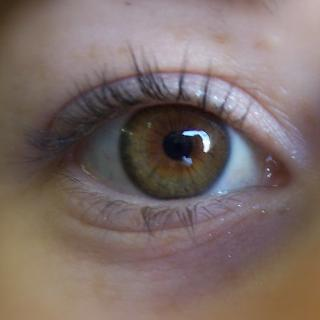pupil: (164, 131, 192, 159)
